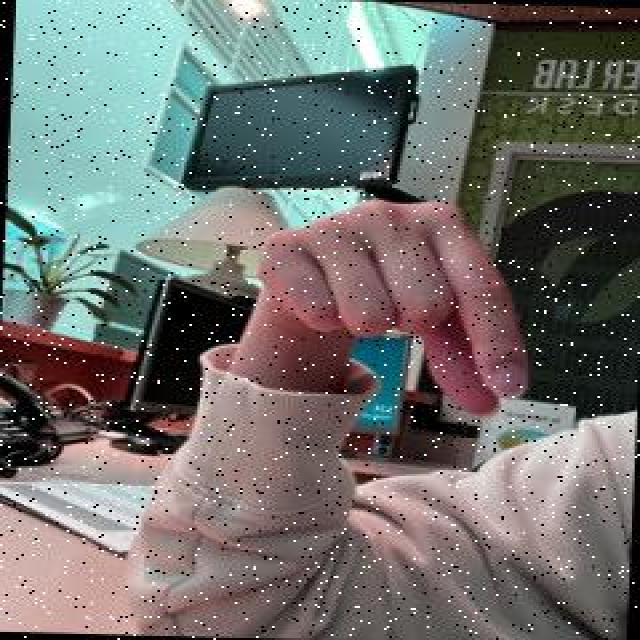Q: (247, 192, 540, 422)
